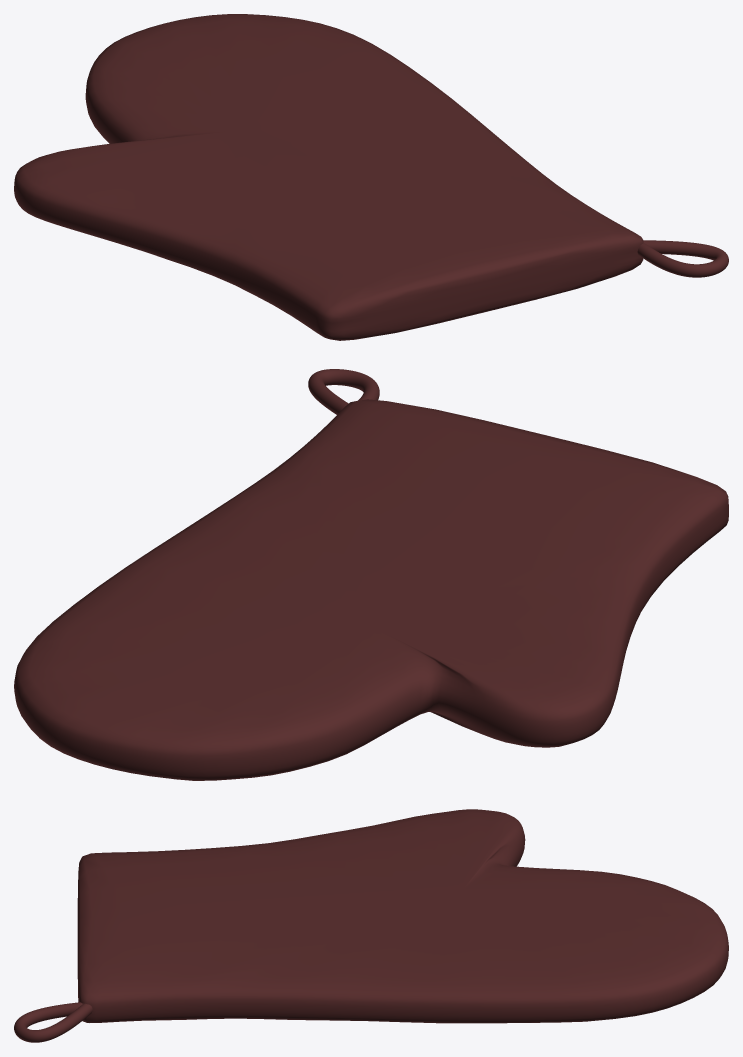
File: Ofenhandschuh.fbx
3 renders of one model, top to bottom at view 1: azimuth 30°, elevation 25°; view 2: azimuth 150°, elevation 25°; view 3: azimuth 270°, elevation 25°, orthographic. The views are drawn at different scales.
Visible parts, largest first — view 1: Ofenhandschuh; view 2: Ofenhandschuh; view 3: Ofenhandschuh.
Boxes of the visible parts, x1,y1,x2,y2 form: Ofenhandschuh: (14, 14, 728, 340); Ofenhandschuh: (14, 369, 728, 780); Ofenhandschuh: (14, 809, 728, 1042).
Size of the model in its own units: 288 by 28.53 by 400.
